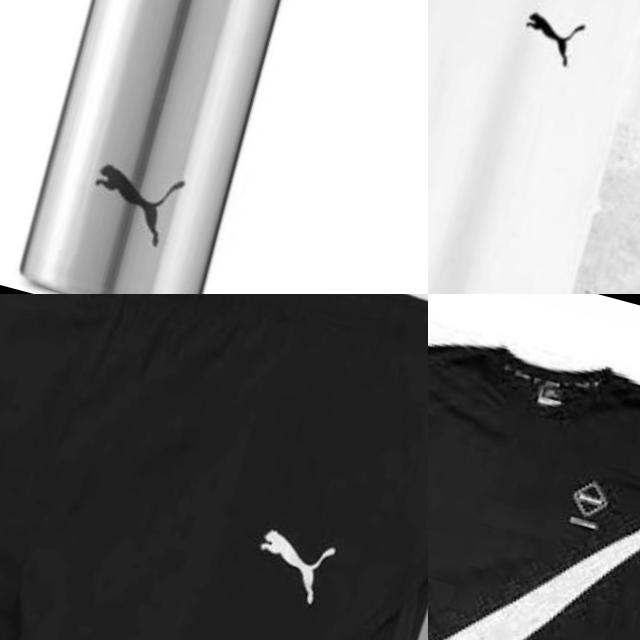NIKE_fake: (428, 409, 640, 640)
PUMA_original: (68, 142, 198, 267), (238, 506, 353, 624), (505, 0, 616, 84)
